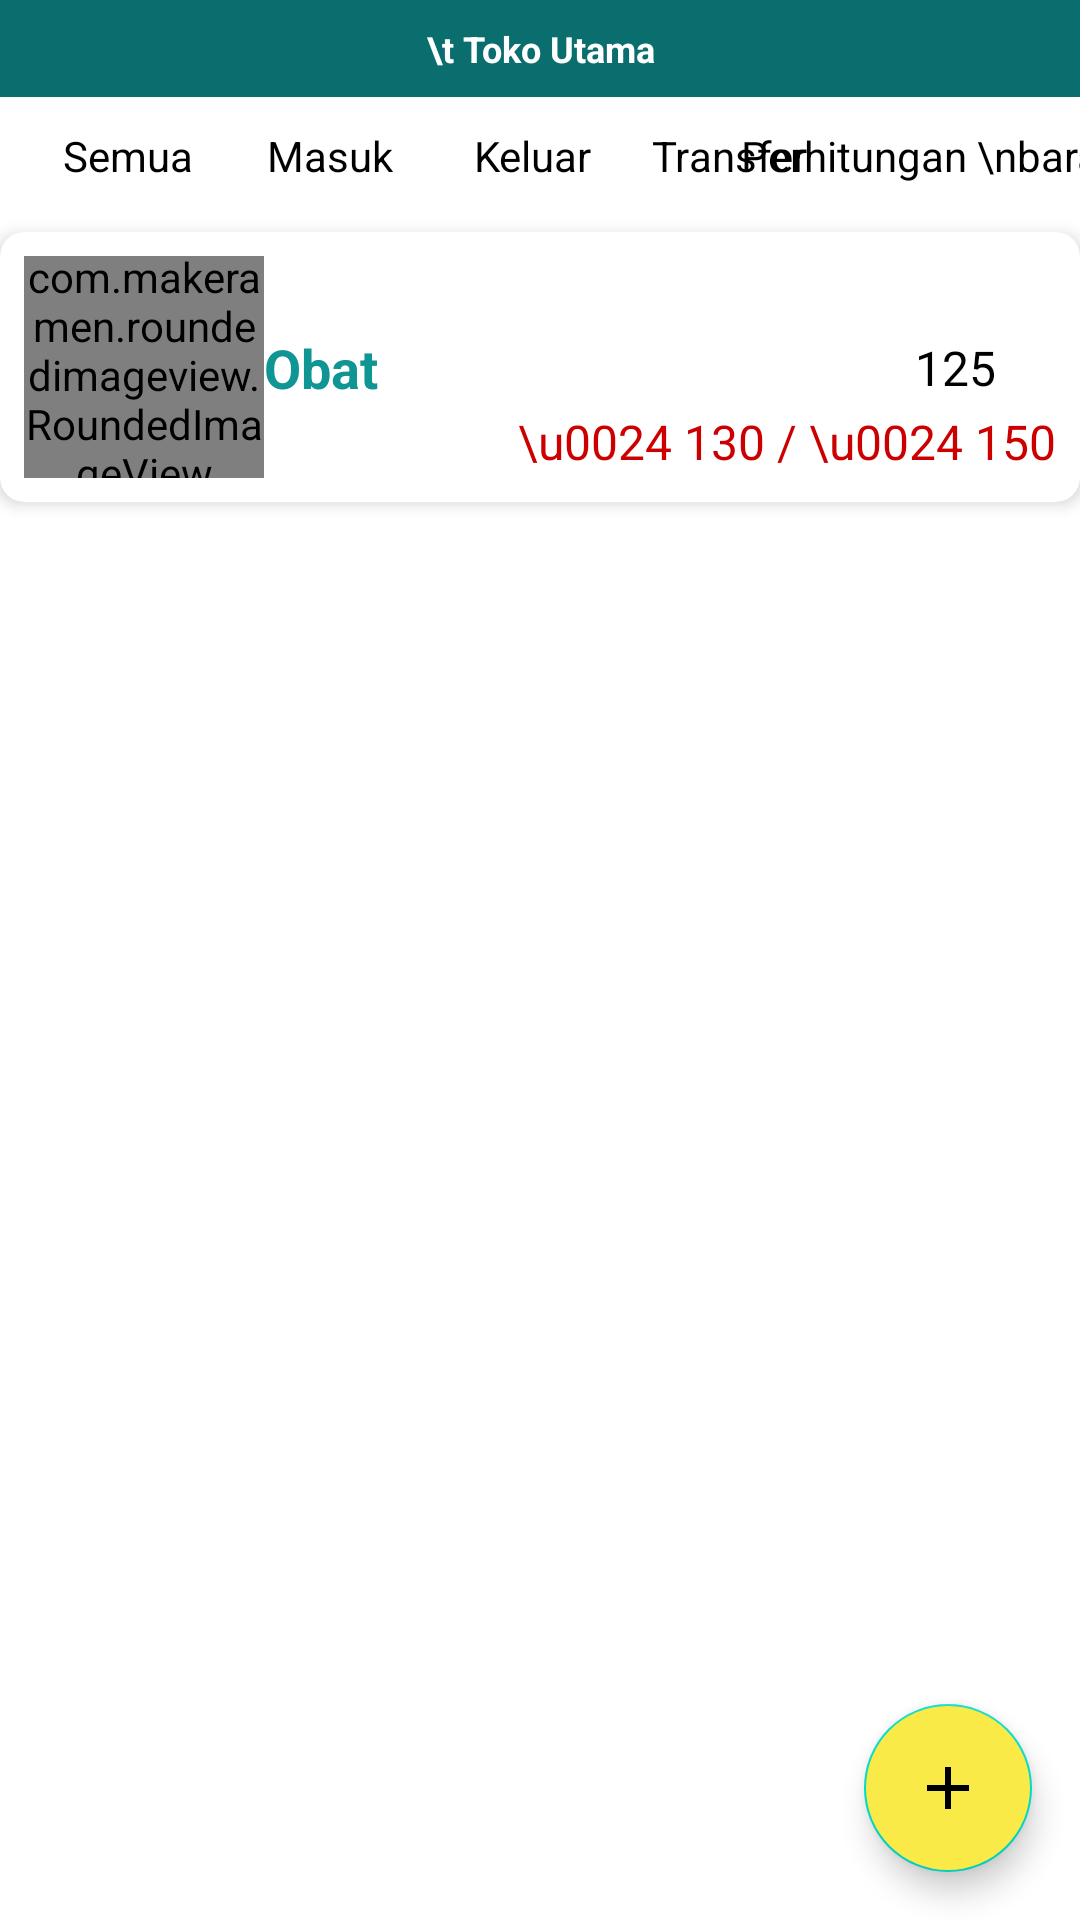

Icons on this 1080x1920 Android screen, each with its box as (x1, y1, x2, y2):
plus: (864, 1704, 1032, 1872)
